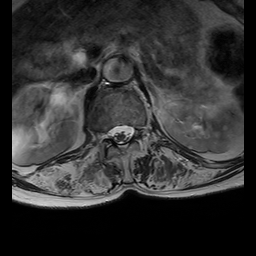CCS_normal: (118, 119, 126, 157)
LFS_stenosis: (135, 118, 145, 144)
LLS_normal: (126, 118, 135, 146)
RFS_stenosis: (101, 123, 109, 147)
RLS_normal: (109, 120, 118, 149)
